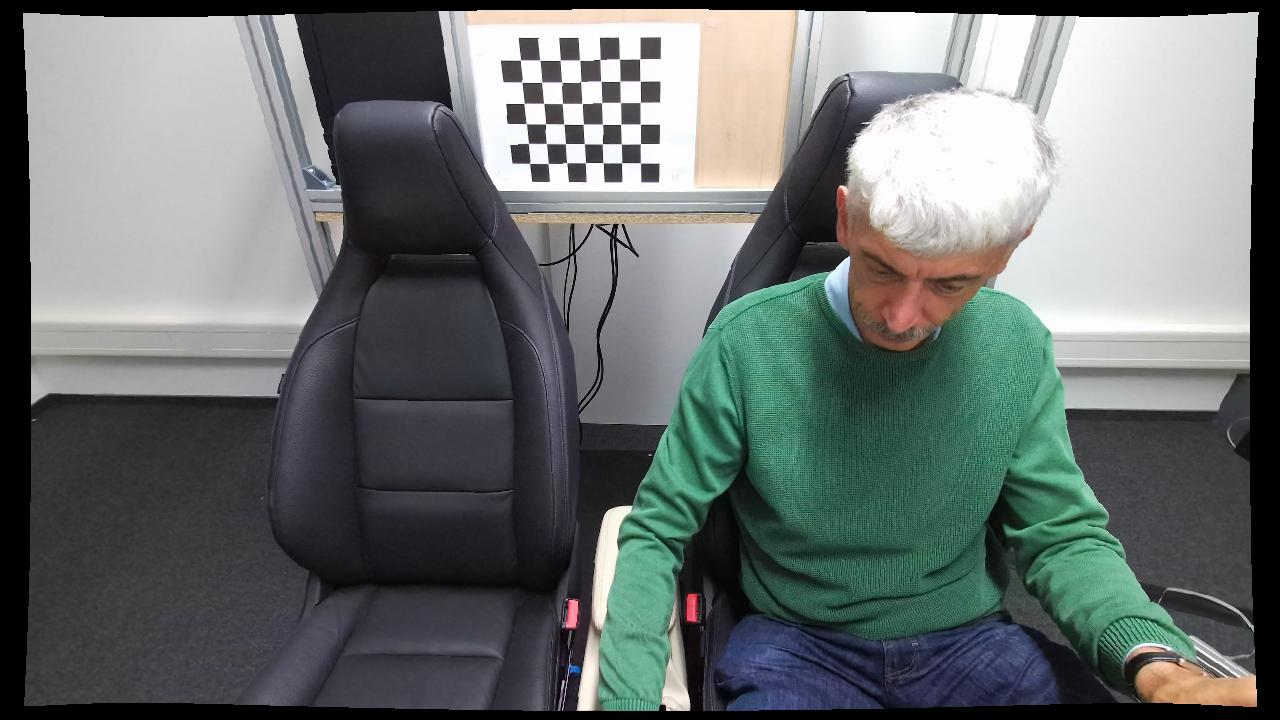Distracted: (592, 86, 1186, 712)
